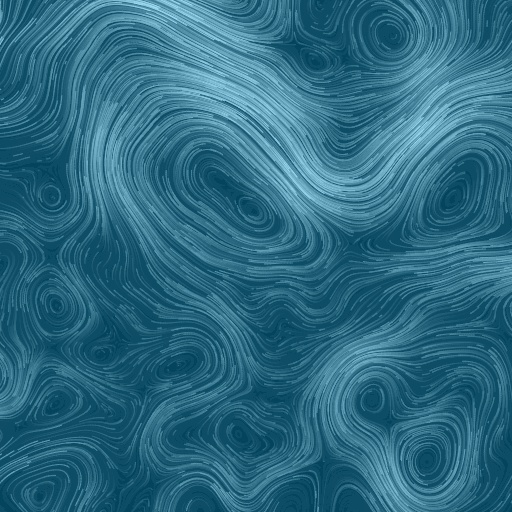eddy: (173, 132, 296, 259), (405, 143, 505, 246), (390, 416, 463, 500), (350, 1, 431, 67), (213, 400, 290, 464), (31, 280, 83, 331), (34, 379, 82, 426), (150, 348, 205, 386), (356, 378, 389, 420), (22, 476, 57, 511), (34, 178, 70, 211), (303, 46, 334, 77), (84, 341, 116, 364)
